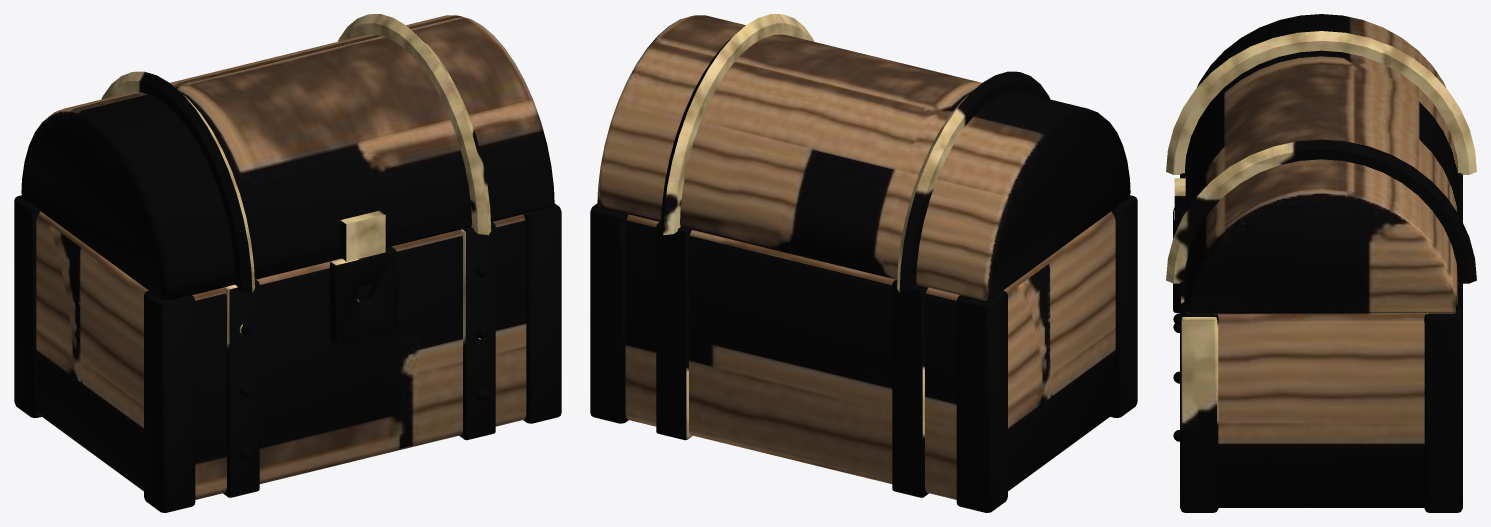
The model's file is chest.glb.
The picture shows the model from 3 angles, left to right: view 1: azimuth 30°, elevation 25°; view 2: azimuth 150°, elevation 25°; view 3: azimuth 270°, elevation 25°; orthographic projection. The views are drawn at different scales.
Parts seen in each view (by area): view 1: body, lid; view 2: body, lid; view 3: lid, body.
Boxes of the visible parts, x1,y1,x2,y2 form: body: (14, 195, 561, 512); lid: (21, 14, 554, 300); body: (590, 195, 1137, 512); lid: (597, 14, 1130, 300); lid: (1166, 14, 1476, 314); body: (1173, 173, 1462, 512).
Bounding box in the file's own units: 1.02 × 0.869 × 0.726.
Materials: 7 (2 with a texture image).
